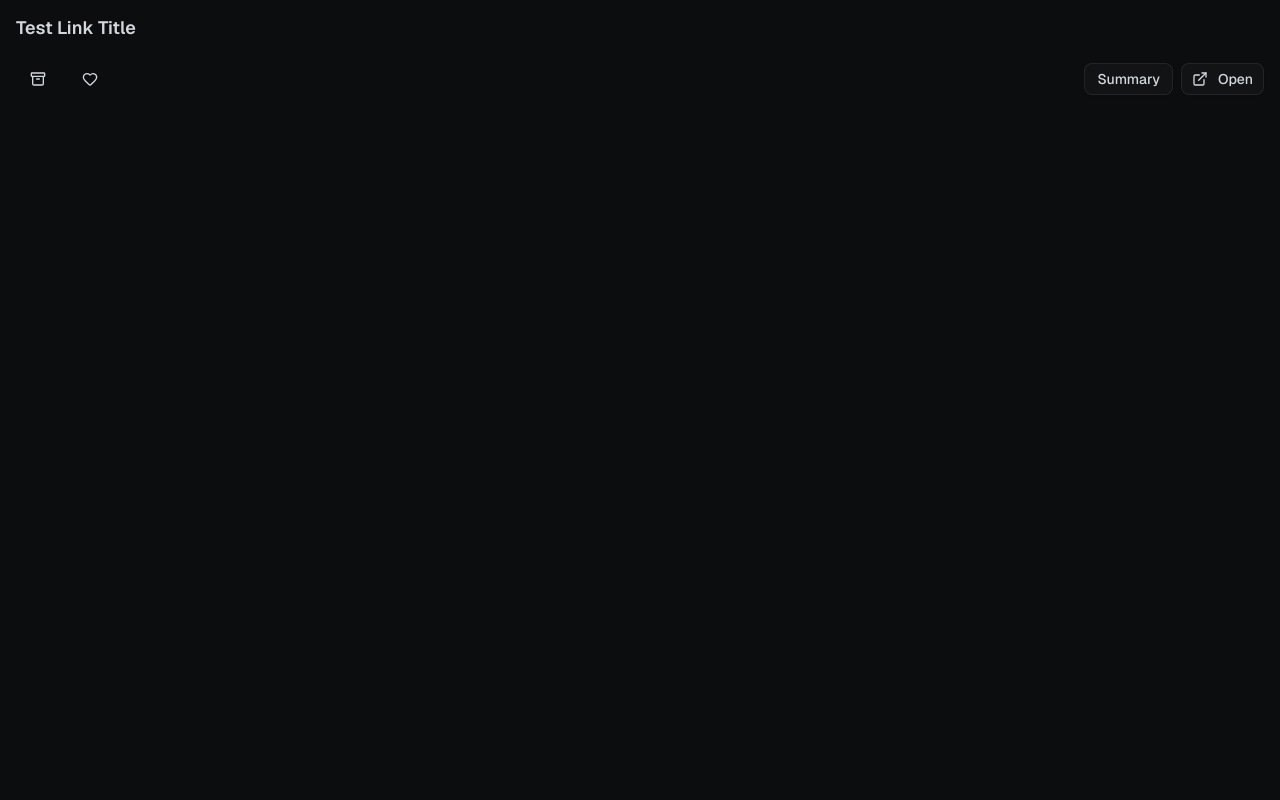
Test: renders summary content in Summary modal when success
Click the button "Summary".
click(1129, 79)  # box [1084,63,1173,95]
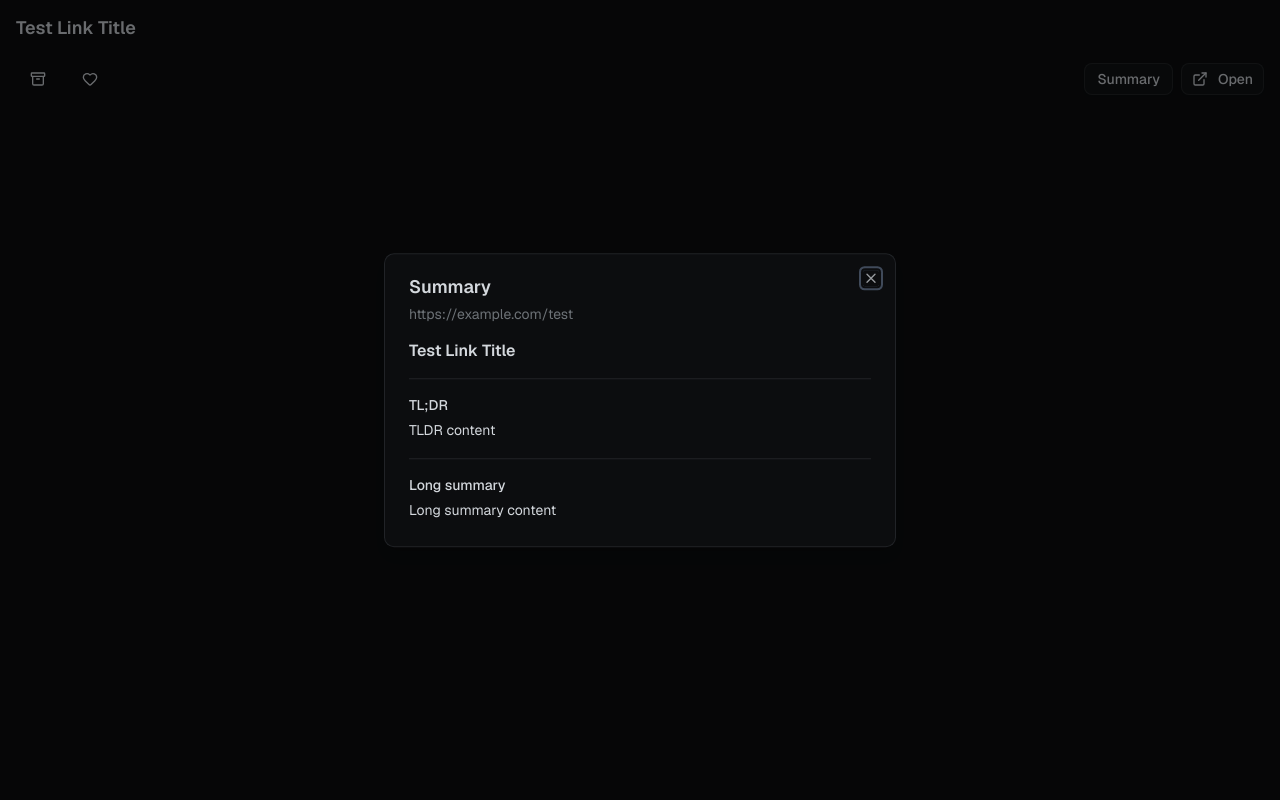
Now the text "TL;DR" is shown, box [409,396,448,414]
Now the text "TLDR content" is shown, box [409,421,495,439]
Now the text "Long summary" is shown, box [409,476,506,494]
